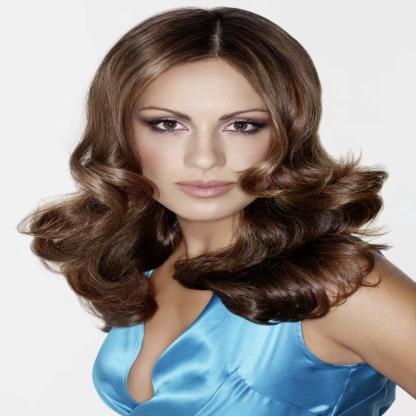long-hair: (5, 220, 402, 271)
